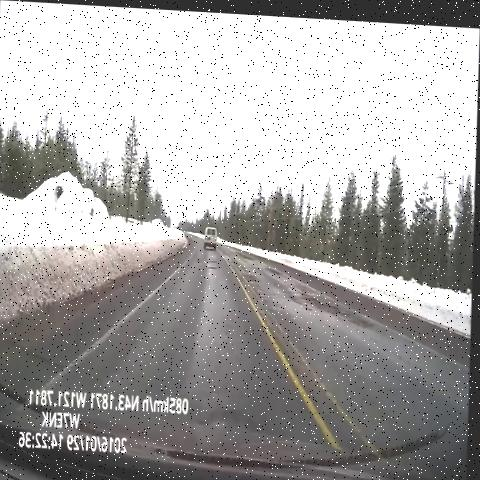pothole: (294, 272, 374, 336), (233, 243, 255, 269), (264, 254, 285, 277), (205, 256, 219, 278), (191, 252, 203, 271), (207, 249, 225, 260)
